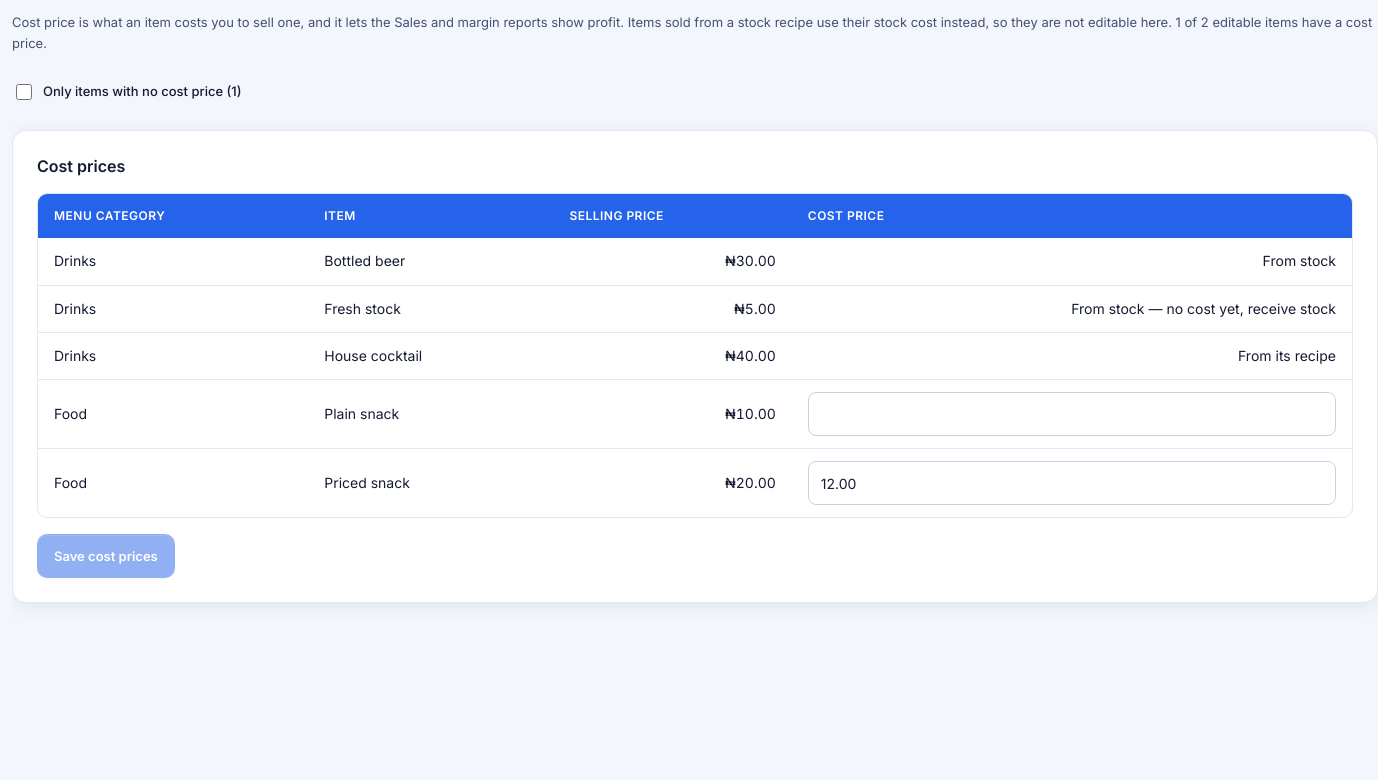
Test case: <CostPricesCard> › one failure does not stop the rest: the others save, and the failed row stays with its typed value and its reason
In the field named "Cost price for Plain snack": [1072, 414] box [808,392,1336,436], type "5"
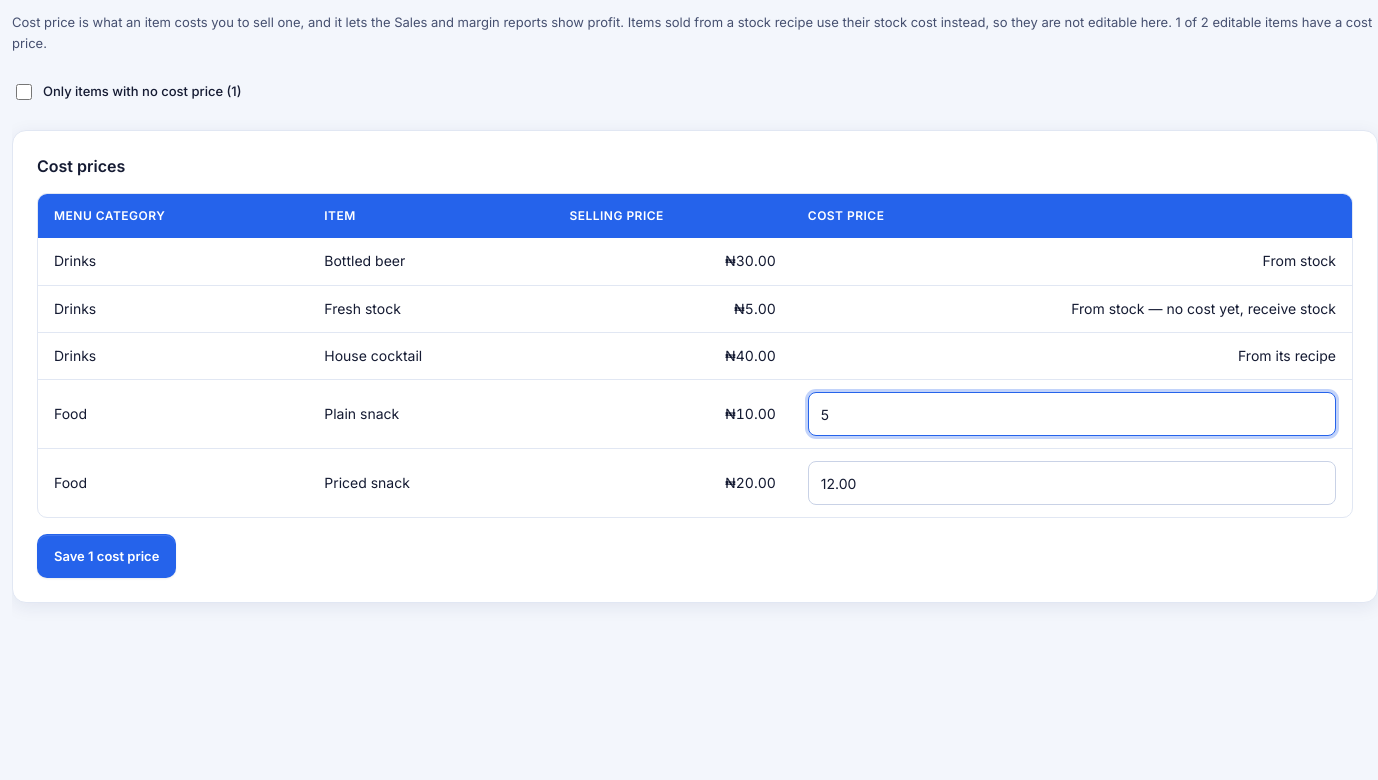
Replace the text in the field named "Cost price for Priced snack" with "13": [1072, 483] box [808,461,1336,505]
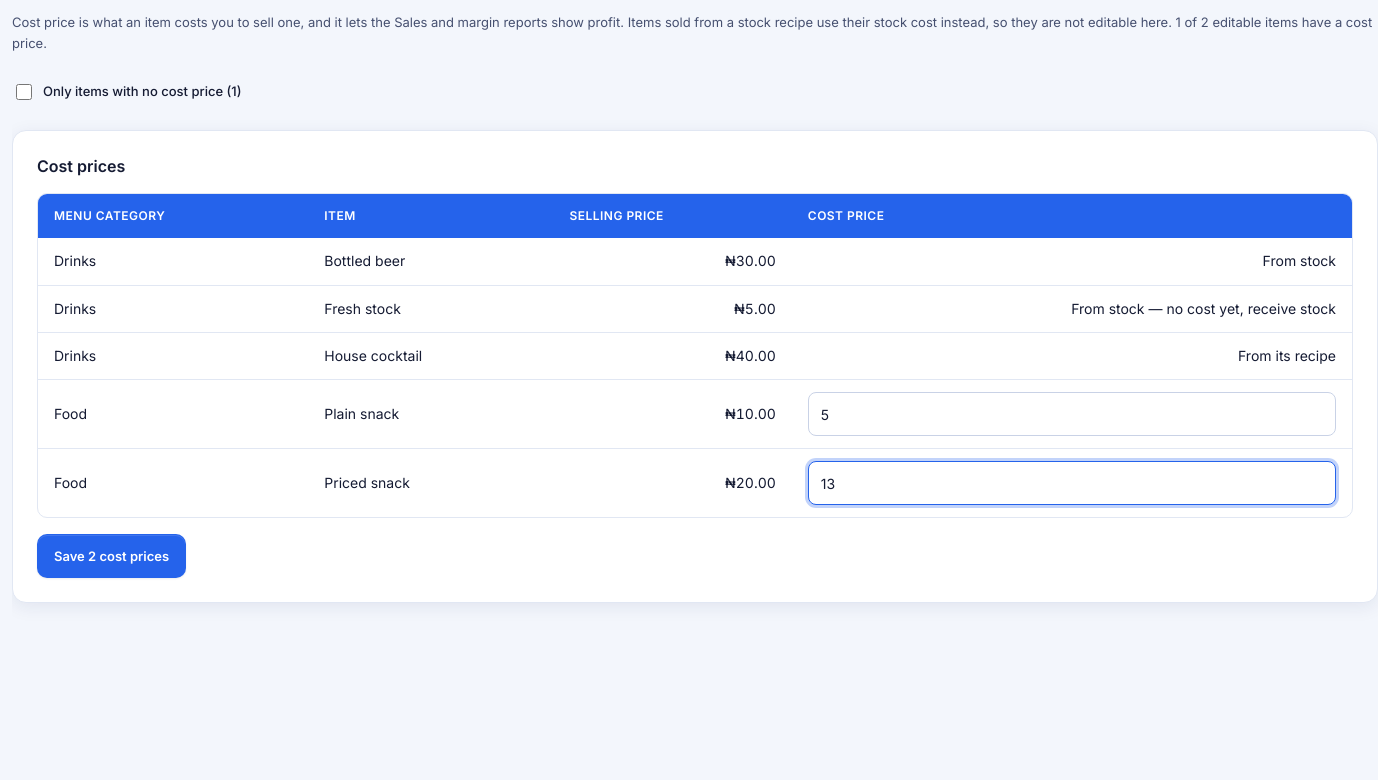
Click the button "Save 2 cost prices": [112, 556] box [37,534,186,578]
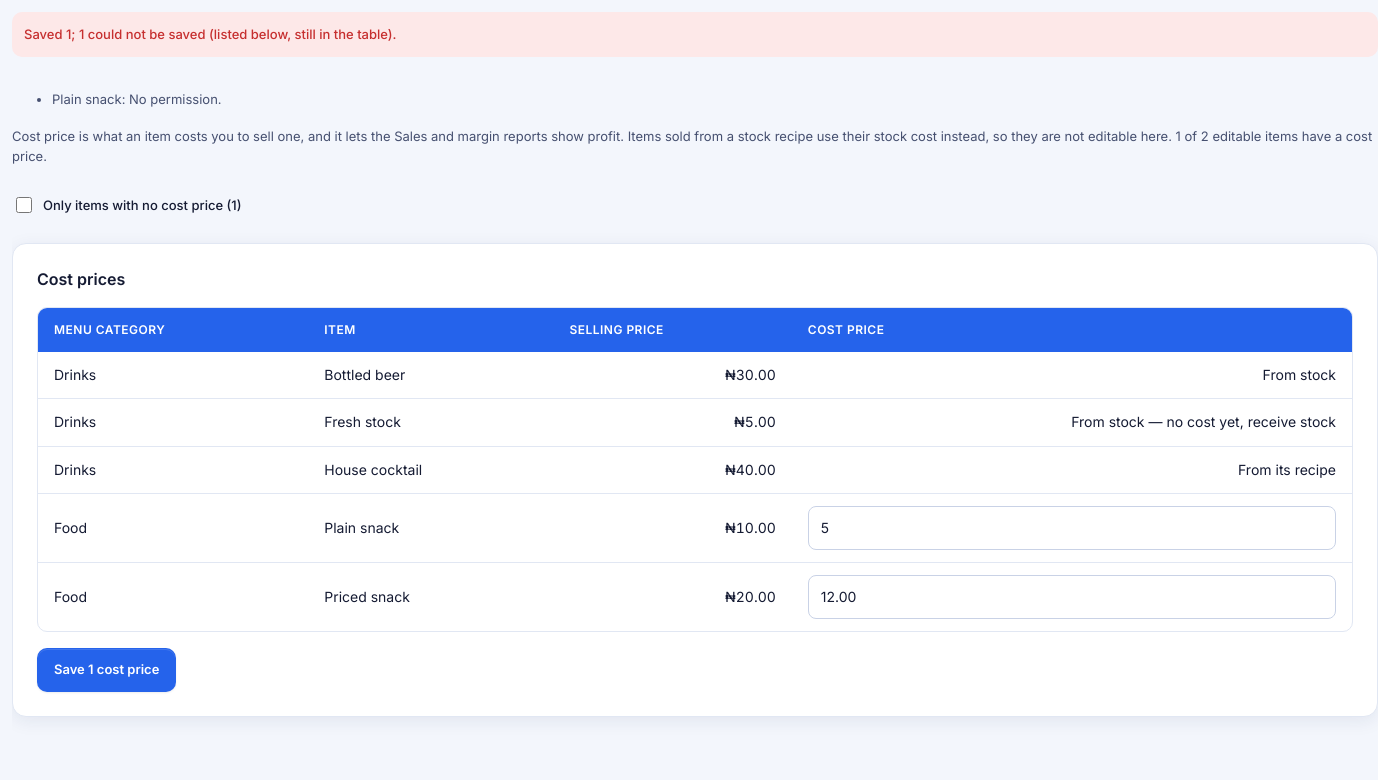
Expected: the button "Save 1 cost price" is enabled, [37,648,176,692]
Expected: the message shows "Saved 1; 1 could not be saved", [24,26,396,42]
Expected: the list item "Plain snack: No permission." is shown, [52,91,222,107]
